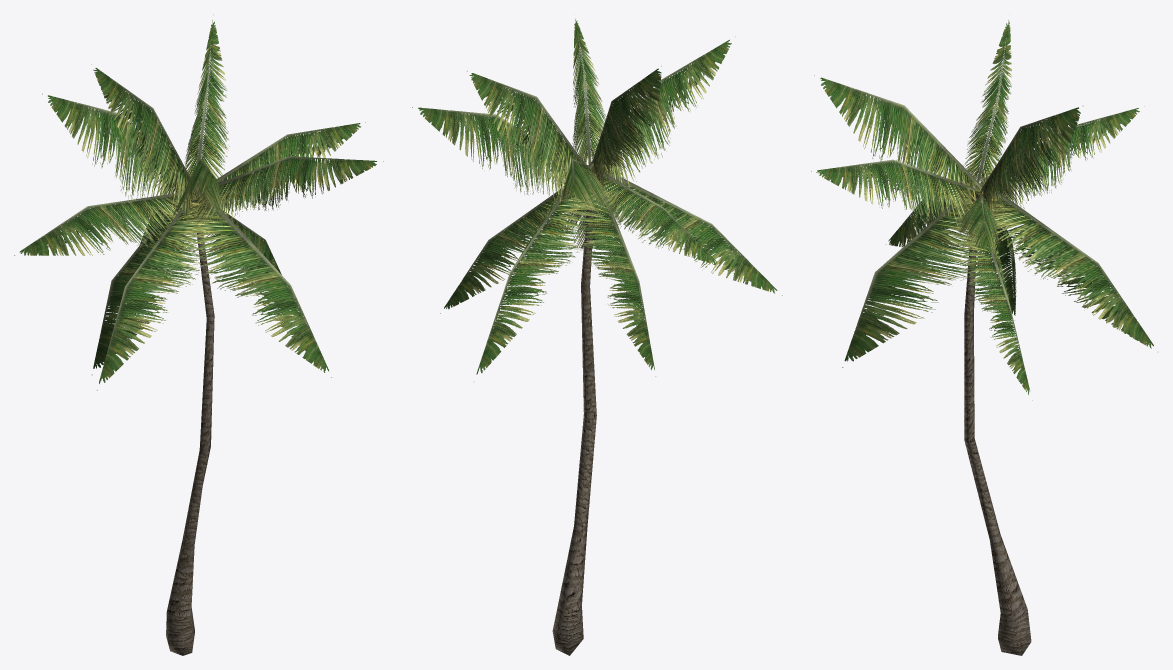
File: palmLOD2.fbx
The picture shows the model from 3 angles, left to right: view 1: azimuth 30°, elevation 25°; view 2: azimuth 150°, elevation 25°; view 3: azimuth 270°, elevation 25°; orthographic projection. The views are drawn at different scales.
Parts seen in each view (by area): view 1: polySurface184; view 2: polySurface184; view 3: polySurface184.
Part boxes in pixels (<box>): polySurface184: <box>14,14,383,655</box>; polySurface184: <box>412,19,782,655</box>; polySurface184: <box>811,20,1153,655</box>.
Size of the model in its own units: 7.79 by 13.72 by 7.25.
1 material, 1 textured.
